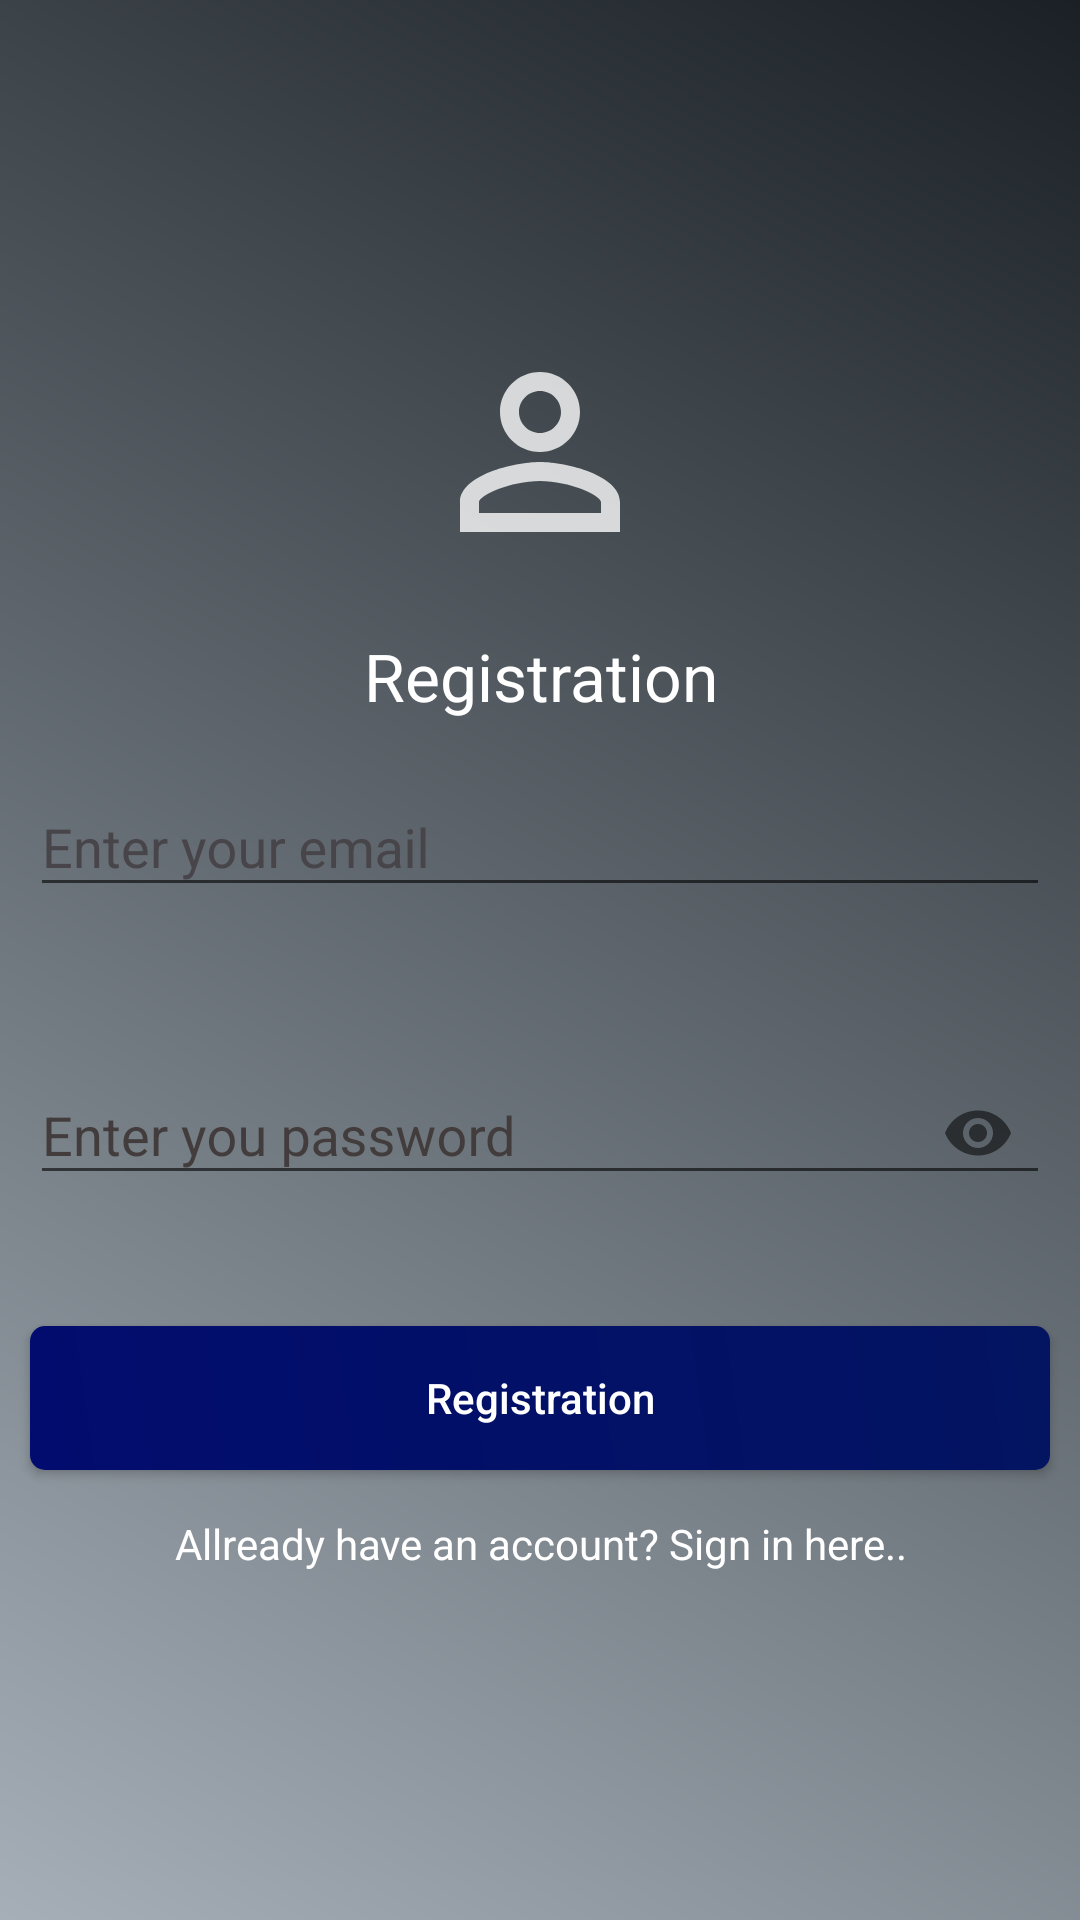

Point at icon controls on the screen. Image size 1080px×1920px, points as (x=x, y=y).
loginreg: (x=540, y=452)
